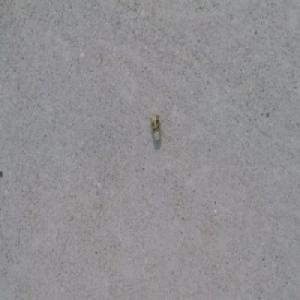BoltNutSet: (149, 114, 161, 144)
